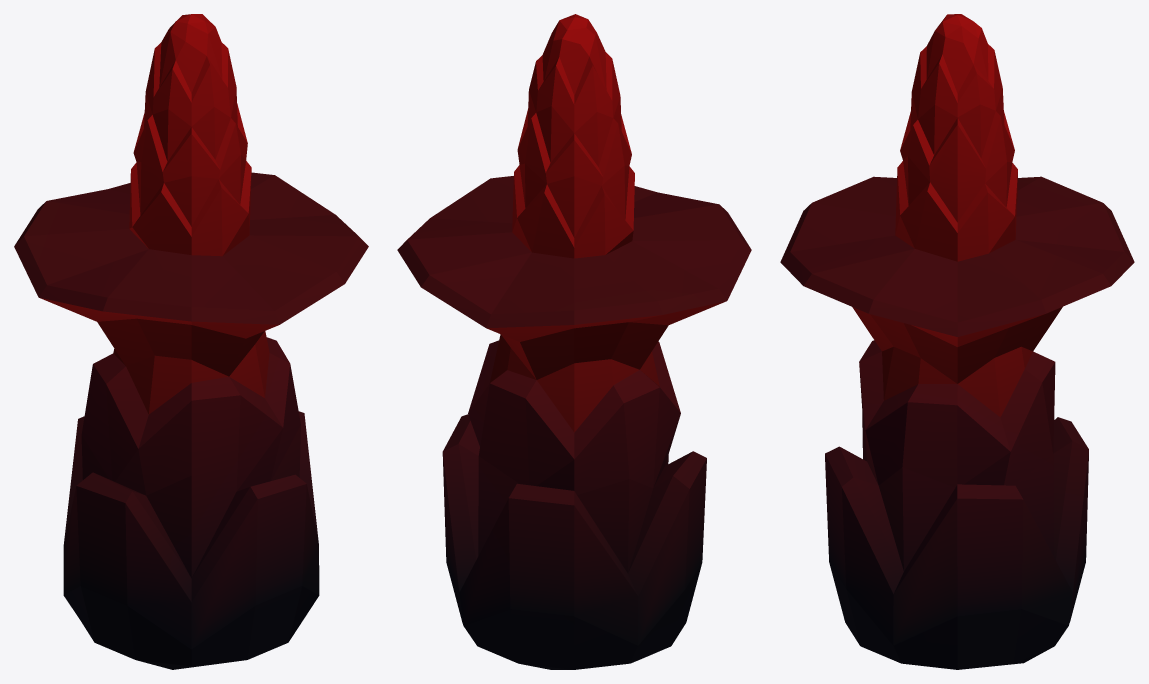
The model's file is entity83150.glb.
The picture shows the model from 3 angles, left to right: view 1: azimuth 30°, elevation 25°; view 2: azimuth 150°, elevation 25°; view 3: azimuth 270°, elevation 25°; orthographic projection.
Parts seen in each view (by area): view 1: node_SM_Env_Plant_Pinecone_01; view 2: node_SM_Env_Plant_Pinecone_01; view 3: node_SM_Env_Plant_Pinecone_01.
Part boxes in pixels (x1,y1,x2,y2): node_SM_Env_Plant_Pinecone_01: (14, 14, 368, 669); node_SM_Env_Plant_Pinecone_01: (397, 14, 751, 669); node_SM_Env_Plant_Pinecone_01: (780, 14, 1134, 669).
Bounding box in the file's own units: 3.71 × 7.16 × 3.71.
1 material, 1 textured.
